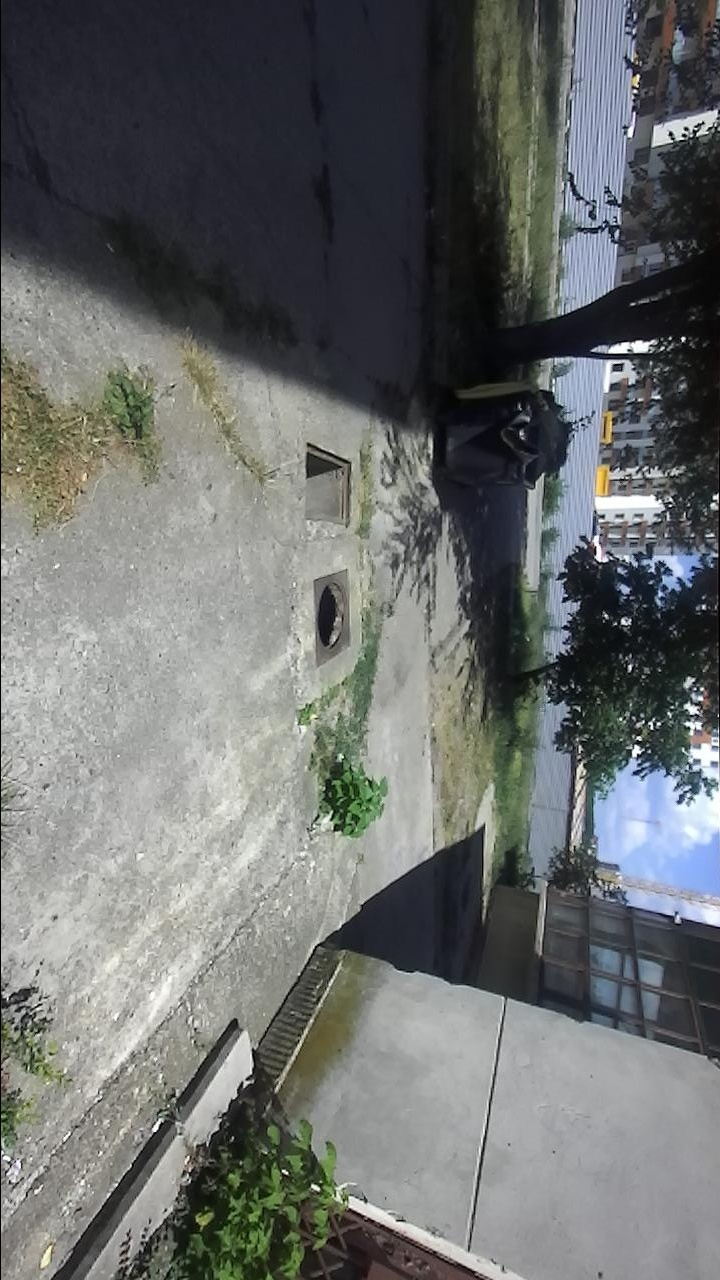drain: (305, 439, 355, 531), (316, 577, 349, 654)
